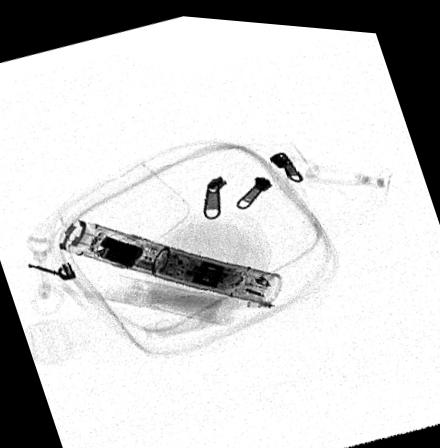Baton: (61, 216, 282, 301)
